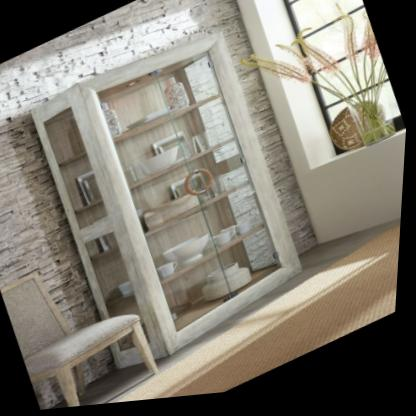Cupboard: (15, 14, 328, 390)
